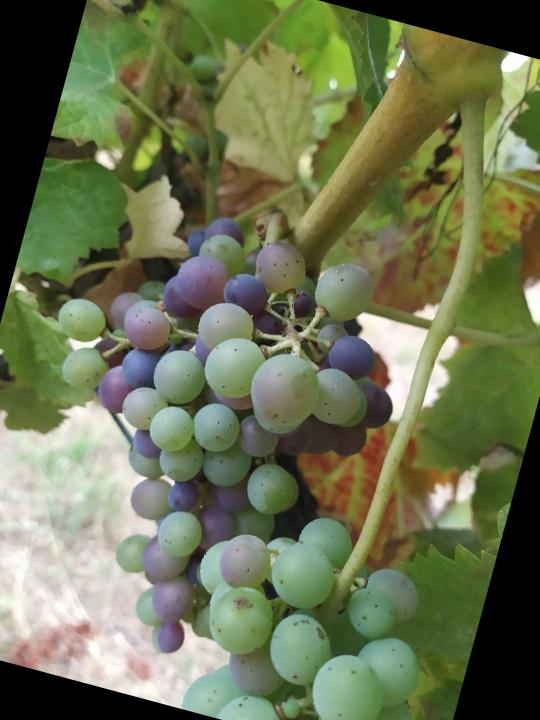grape: (0, 178, 434, 700)
